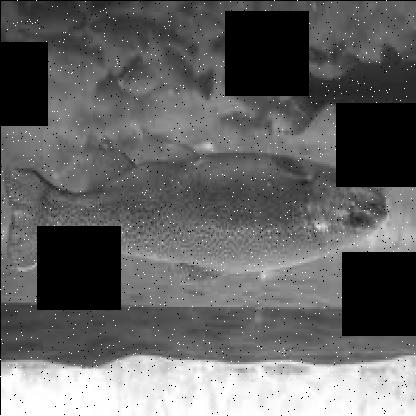fish: (4, 139, 388, 284)
